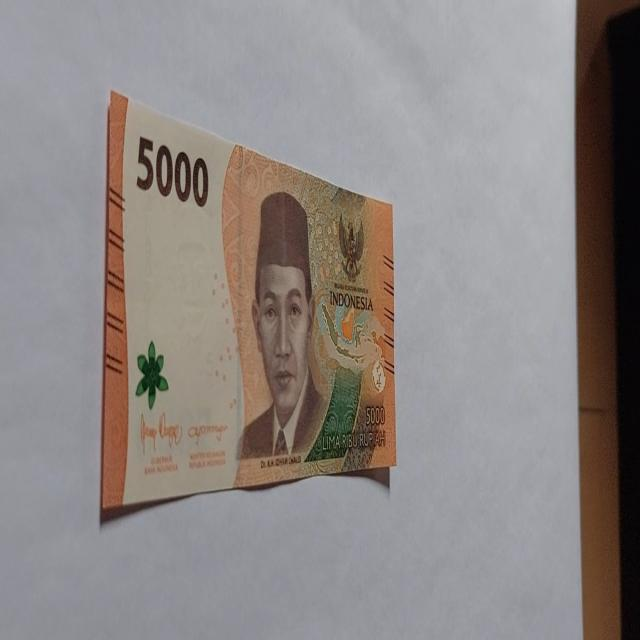lima ribu rupiah: (99, 89, 397, 521), (234, 189, 330, 471)
